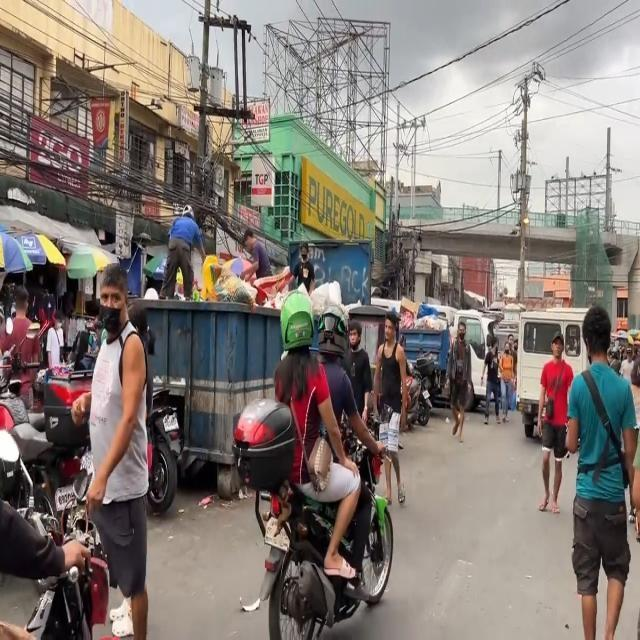hairnet: (348, 328, 359, 351)
